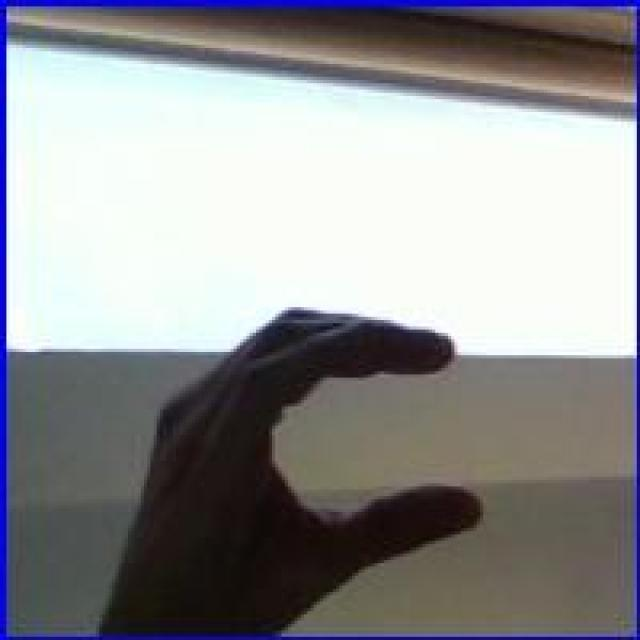C: (128, 298, 486, 618)
